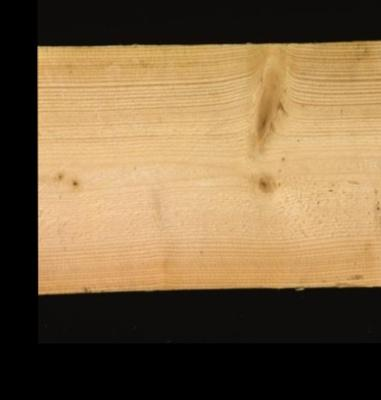small_knot: (53, 170, 63, 181), (69, 177, 79, 187)
sound_knot: (252, 170, 275, 195)
